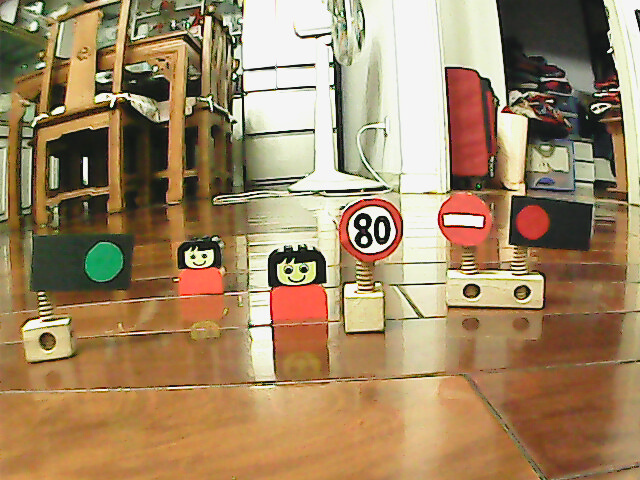Green Traffic Light: (79, 234, 132, 292)
Person: (265, 242, 331, 327), (173, 234, 228, 297)
Red Traffic Light: (510, 197, 556, 245)
Speed Limit 80: (336, 196, 406, 265)
Stop Sign: (435, 188, 495, 251)
